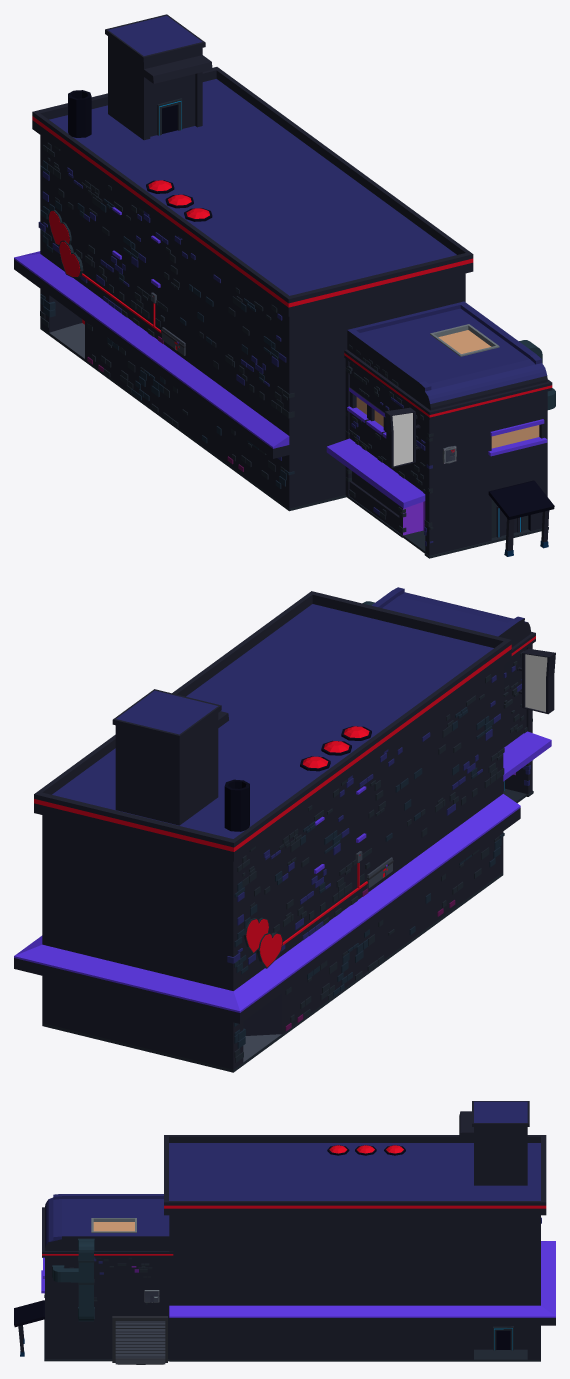
The model's file is Building_Long02.fbx.
3 renders of one model, top to bottom at view 1: azimuth 30°, elevation 25°; view 2: azimuth 150°, elevation 25°; view 3: azimuth 270°, elevation 25°, orthographic. The views are drawn at different scales.
Parts seen in each view (by area): view 1: Cube.424, Building_Sign01; view 2: Cube.424, Building_Sign01; view 3: Cube.424, Building_Sign01.
Boxes of the visible parts, x1,y1,x2,y2 form: Cube.424: (14, 14, 473, 511); Building_Sign01: (326, 301, 555, 558); Cube.424: (14, 591, 520, 1072); Building_Sign01: (362, 587, 555, 803); Cube.424: (164, 1101, 555, 1361); Building_Sign01: (14, 1194, 173, 1364).
Bounding box in the file's own units: 1096 × 1464 × 3295.
